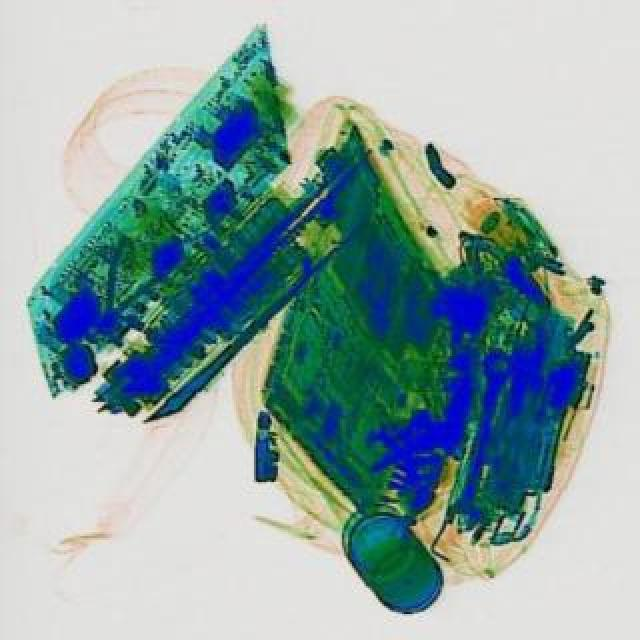scissors: (440, 348, 520, 532)
